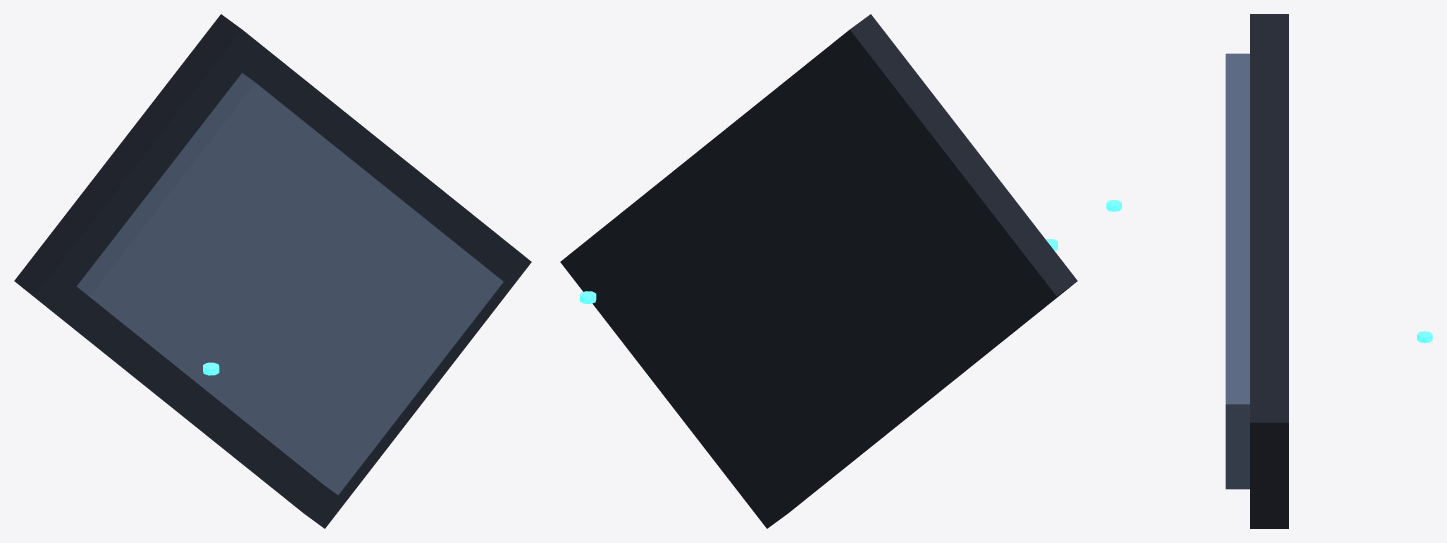
The model's file is mod_pared_angular.fbx.
3 views of the same model, side by side, from view 1: azimuth 30°, elevation 25°; view 2: azimuth 150°, elevation 25°; view 3: azimuth 270°, elevation 25° (orthographic). The views are drawn at different scales.
Visible parts, largest first — view 1: Pared_angular; view 2: Pared_angular; view 3: Pared_angular.
Boxes of the visible parts, x1,y1,x2,y2 form: Pared_angular: (14,14,531,528); Pared_angular: (560,14,1077,528); Pared_angular: (1225,14,1288,528).
Bounding box in the file's own units: 1.9 × 1.9 × 1.18.
